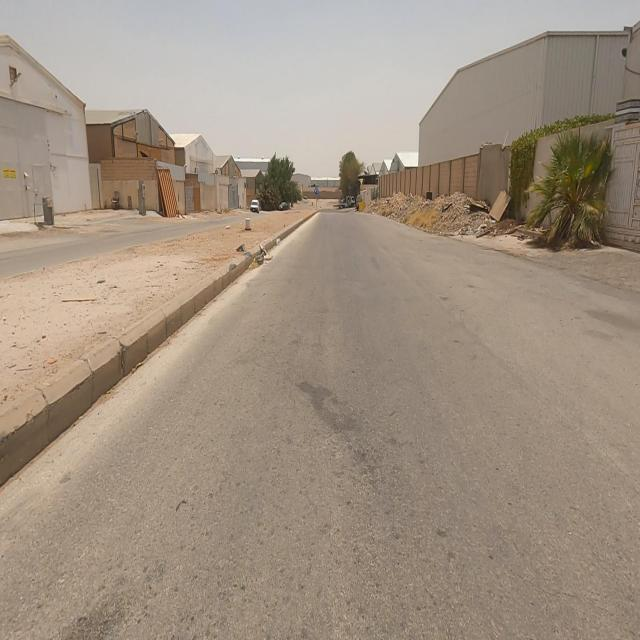debris: (476, 161, 524, 251), (238, 226, 286, 288), (224, 224, 263, 287)
